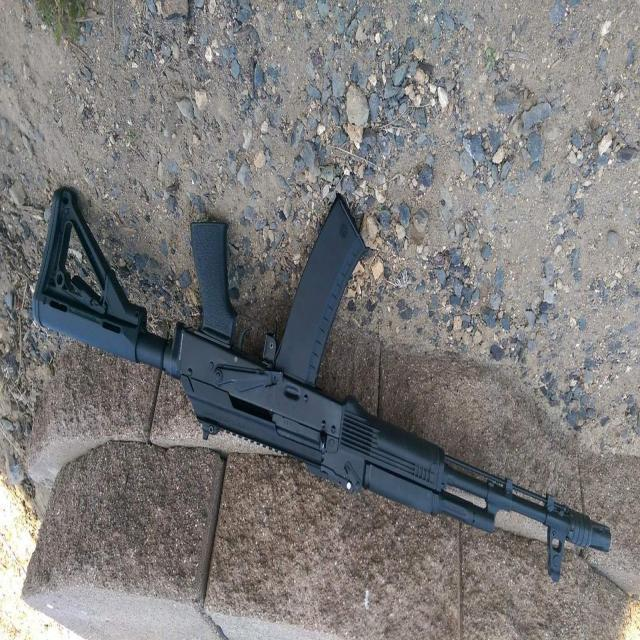weapon: (32, 183, 612, 580)
